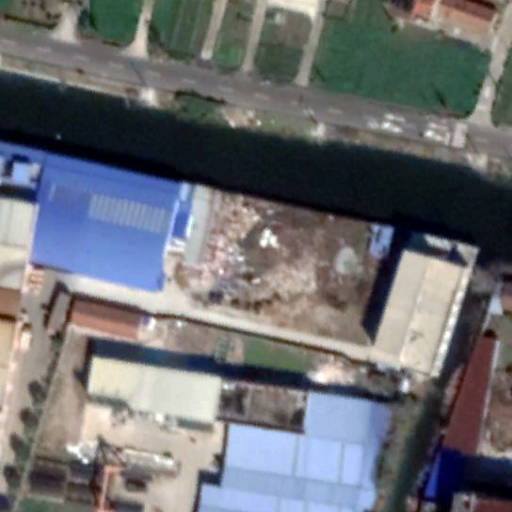msw: (189, 196, 261, 300)
